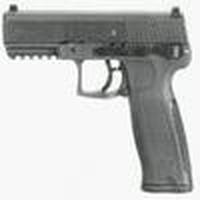gun: (1, 7, 200, 190)
